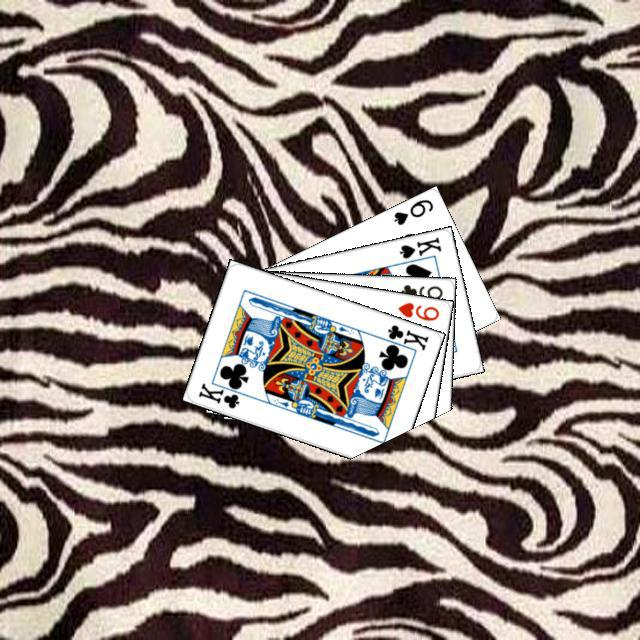6s: (389, 194, 435, 227)
9c: (396, 280, 444, 302)
9h: (392, 297, 441, 322)
Kc: (375, 320, 430, 354), (193, 377, 248, 410)
Ks: (394, 232, 443, 260)
